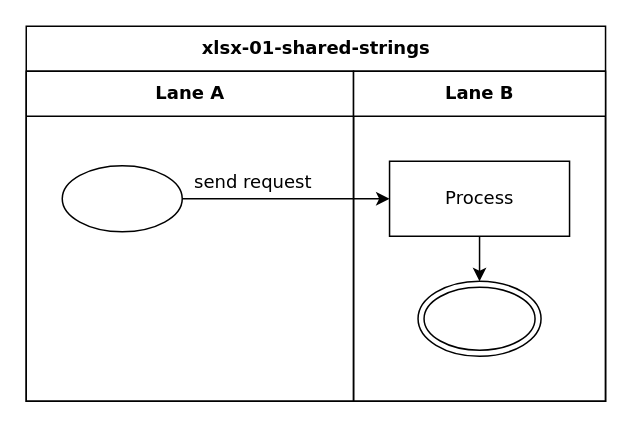
Some shapes in this 633 by 428 pixel diagram are drawn without their labels. The shapes that lost their labels are listed below. From the top down, each one's box as (x1, y1, x2, y2) in pixels, then its label:
(61, 164, 182, 232): Start
(417, 280, 541, 356): Done
